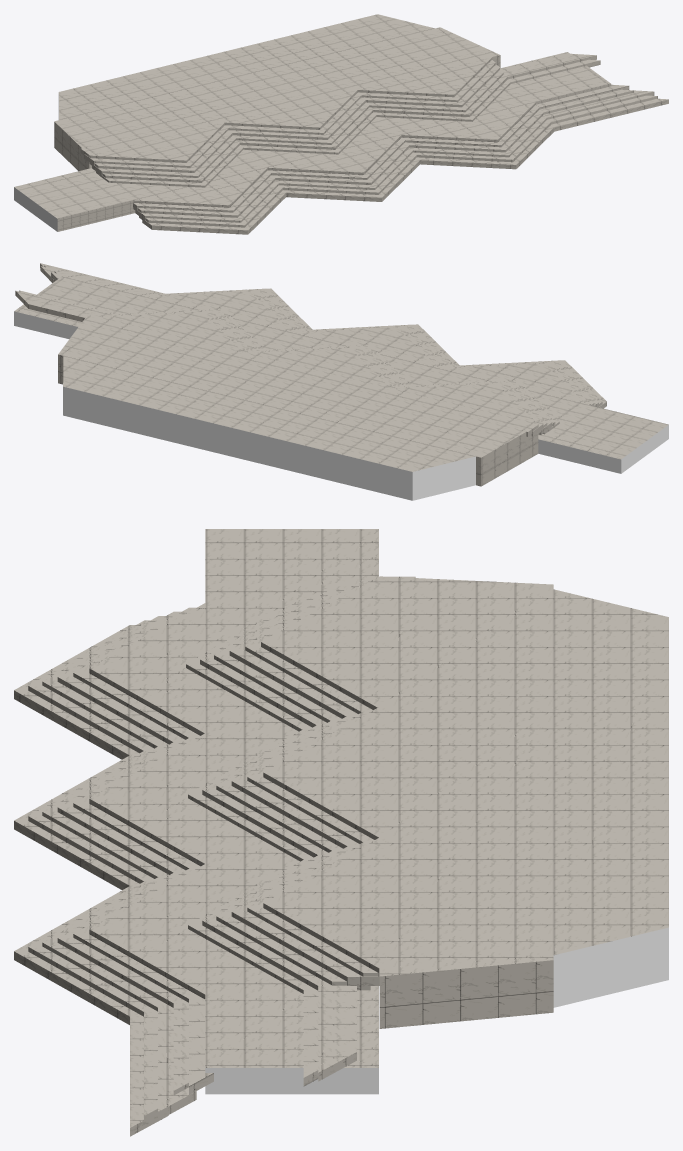
File: Staircase2.fbx
3 renders of one model, top to bottom at view 1: azimuth 30°, elevation 25°; view 2: azimuth 150°, elevation 25°; view 3: azimuth 270°, elevation 25°, orthographic. The views are drawn at different scales.
Parts seen in each view (by area): view 1: orangemarble Mesh (1), Mall Wall Mesh (1); view 2: orangemarble Mesh (1), Mall Wall Mesh (1); view 3: orangemarble Mesh (1), Mall Wall Mesh (1).
Boxes of the visible parts, x1,y1,x2,y2 form: orangemarble Mesh (1): (14, 14, 668, 234); Mall Wall Mesh (1): (14, 95, 58, 231); orangemarble Mesh (1): (14, 263, 668, 486); Mall Wall Mesh (1): (14, 311, 668, 500); orangemarble Mesh (1): (14, 529, 668, 1136); Mall Wall Mesh (1): (205, 927, 668, 1094).
Bounding box in the file's own units: 70.62 × 3.28 × 33.89.
